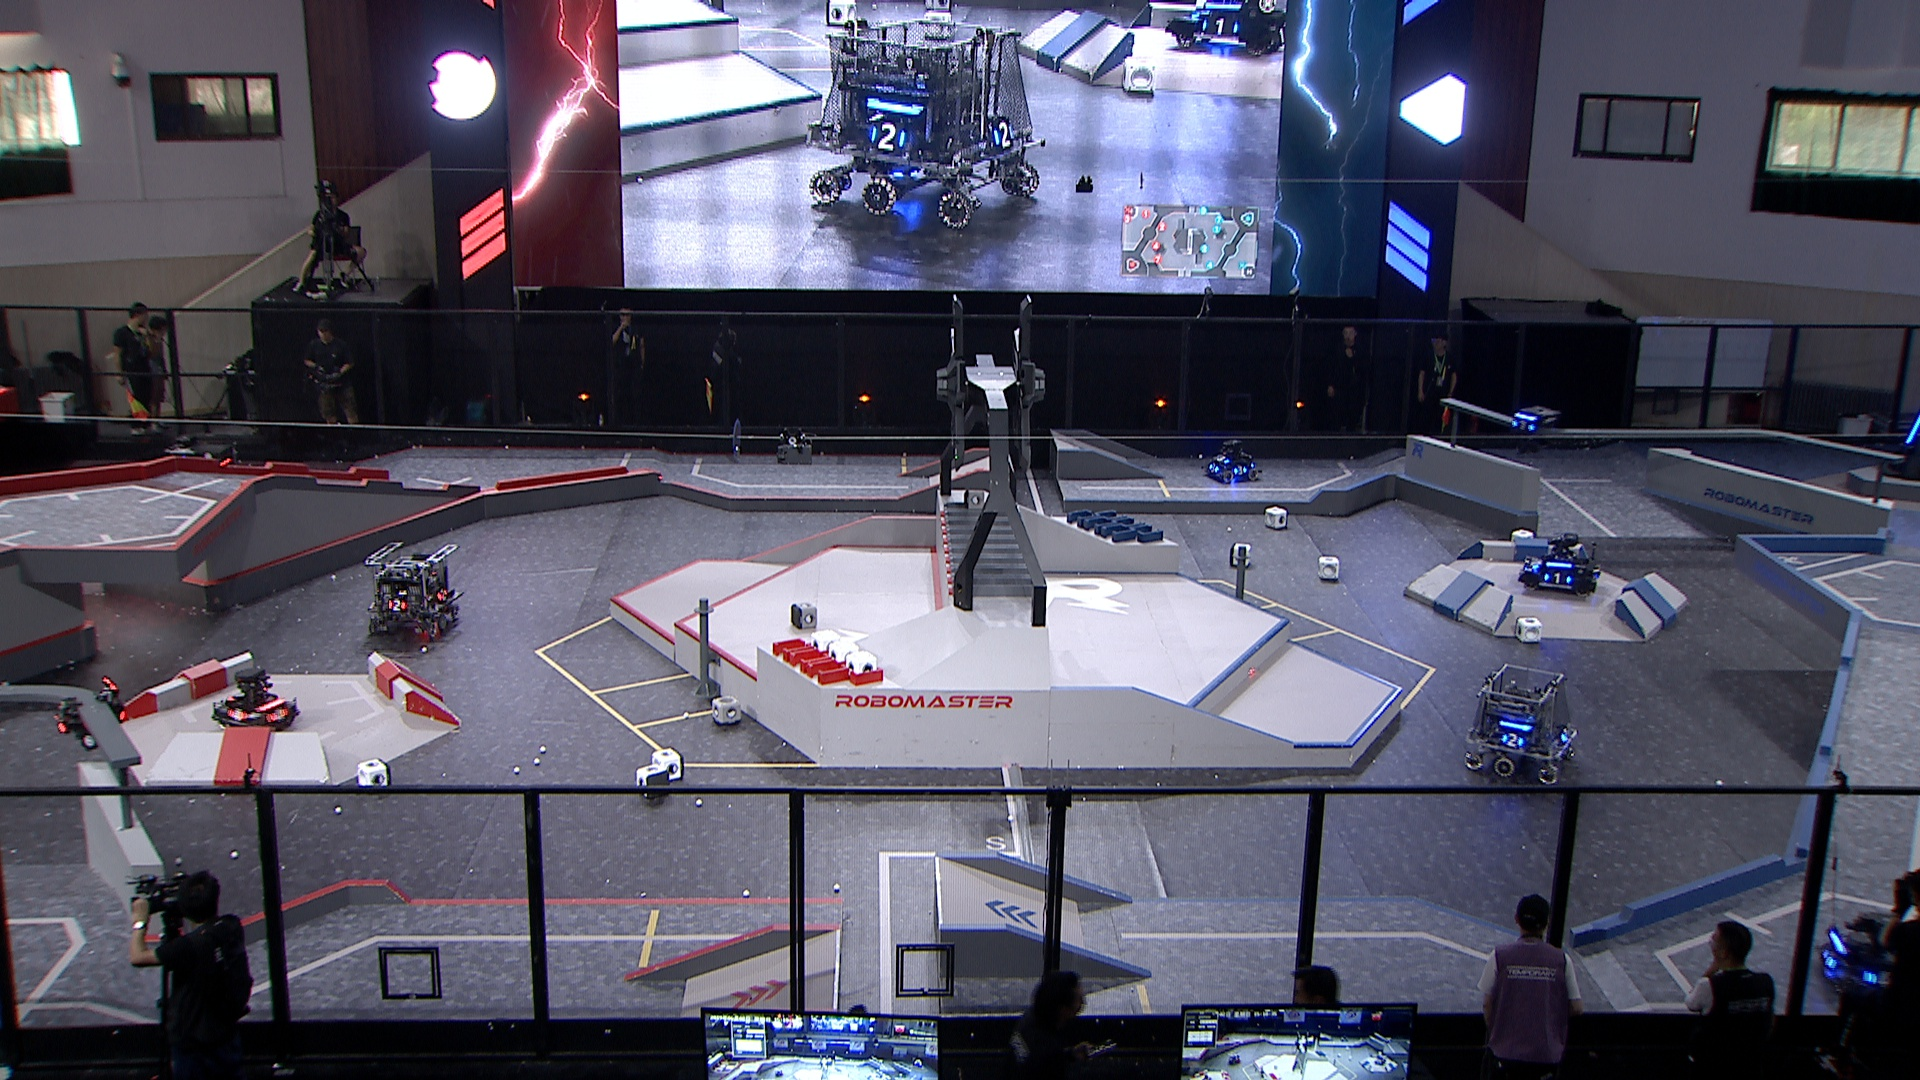armor: (1817, 949, 1844, 971), (1903, 414, 1920, 446), (1865, 969, 1894, 986), (1543, 570, 1572, 585), (1510, 419, 1538, 434), (223, 707, 248, 723), (385, 597, 409, 613), (51, 713, 71, 732), (264, 707, 287, 721), (1501, 732, 1524, 746), (1557, 728, 1575, 744), (436, 585, 448, 604), (1528, 556, 1542, 572), (1211, 454, 1232, 463), (1207, 460, 1220, 475), (1233, 465, 1247, 476)
base: (1875, 400, 1920, 485)
car: (1462, 665, 1582, 785), (1815, 905, 1920, 1005), (363, 541, 465, 640), (160, 429, 243, 514), (211, 669, 301, 735), (1518, 531, 1604, 593), (1203, 434, 1263, 484)
ignore: (795, 17, 1040, 228)
watcher: (50, 674, 128, 754), (1505, 404, 1561, 462)
